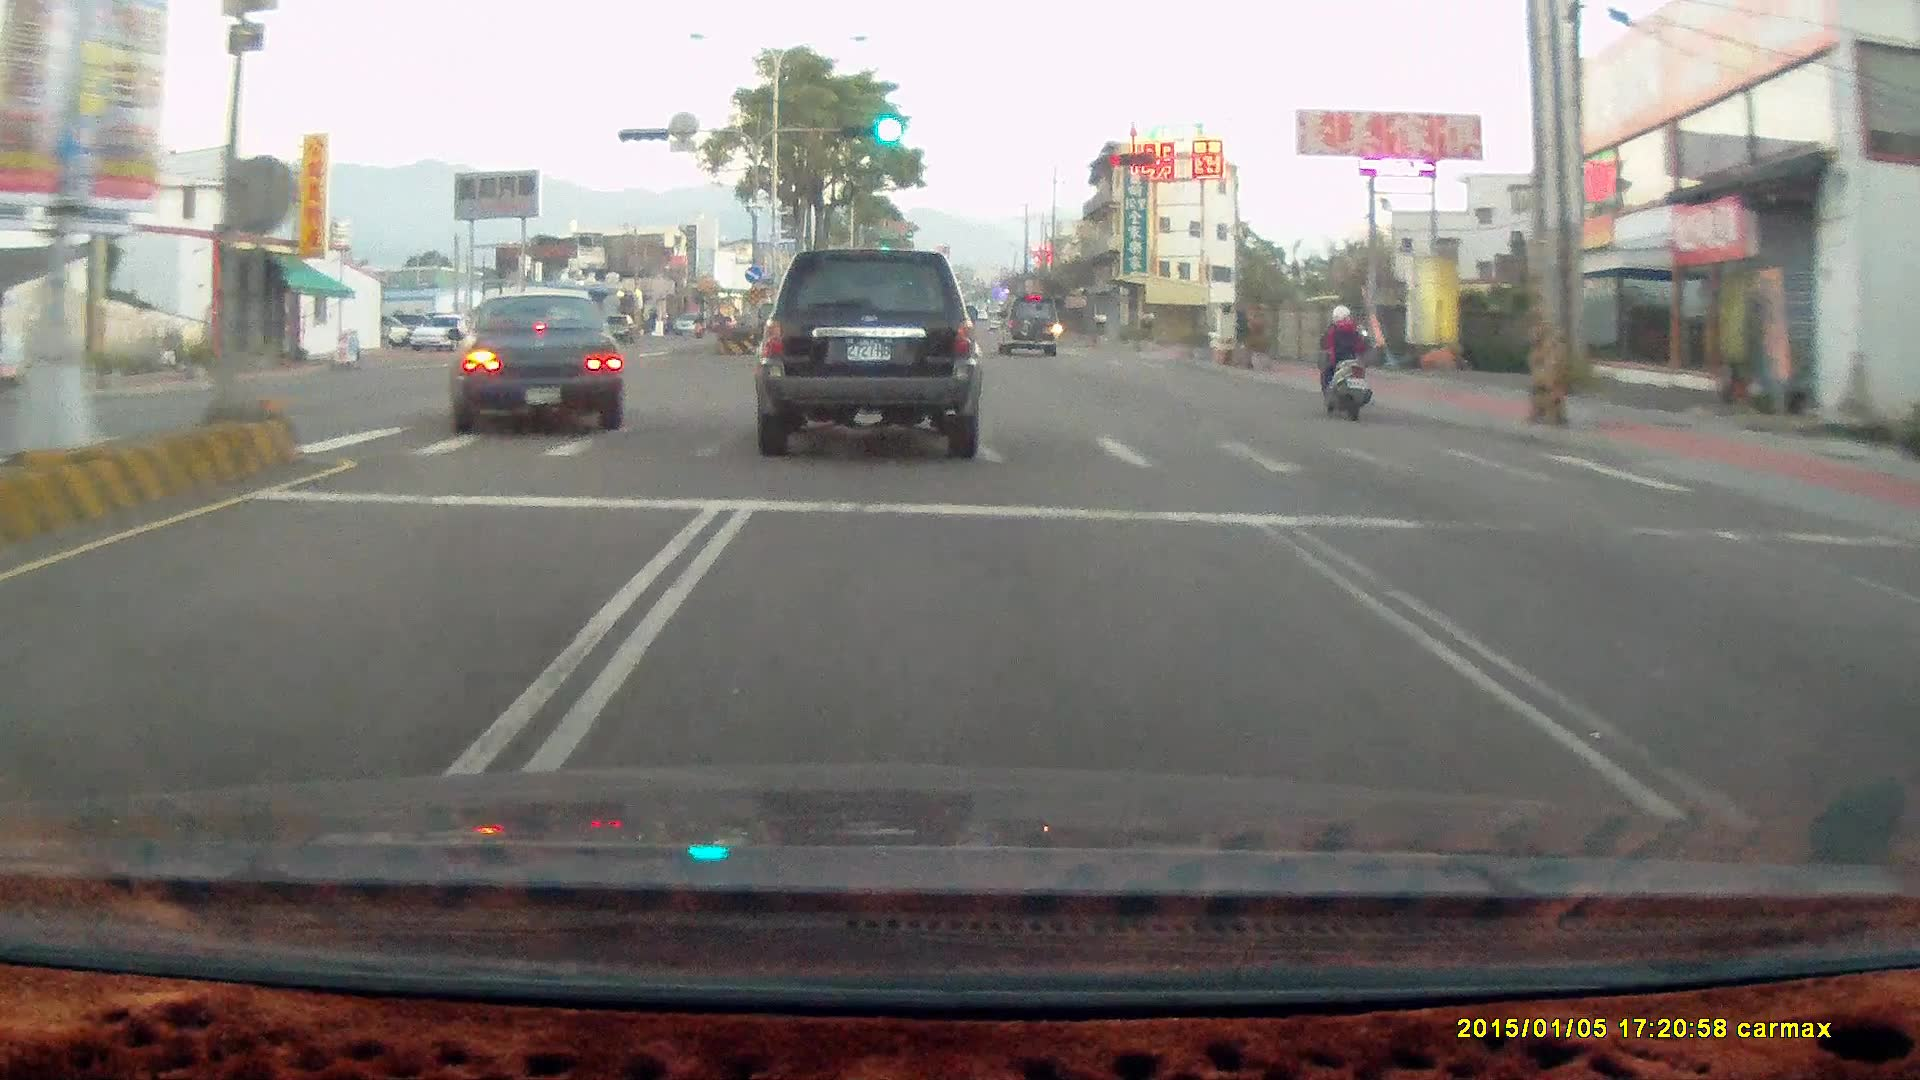rider: (1304, 293, 1385, 429), (1310, 301, 1372, 420)
vehicle: (751, 241, 985, 465), (752, 245, 982, 456), (445, 282, 622, 429), (444, 286, 622, 428), (996, 290, 1062, 357), (994, 279, 1058, 341), (408, 311, 483, 349), (587, 309, 636, 341)
